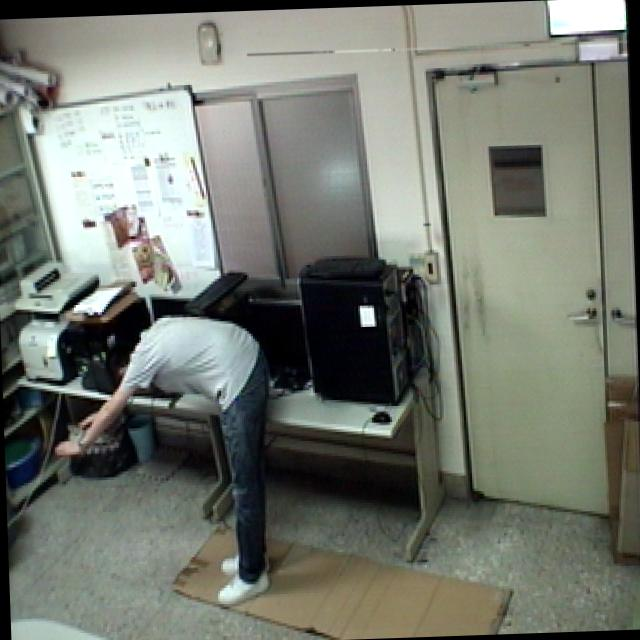bend: (39, 294, 298, 622)
